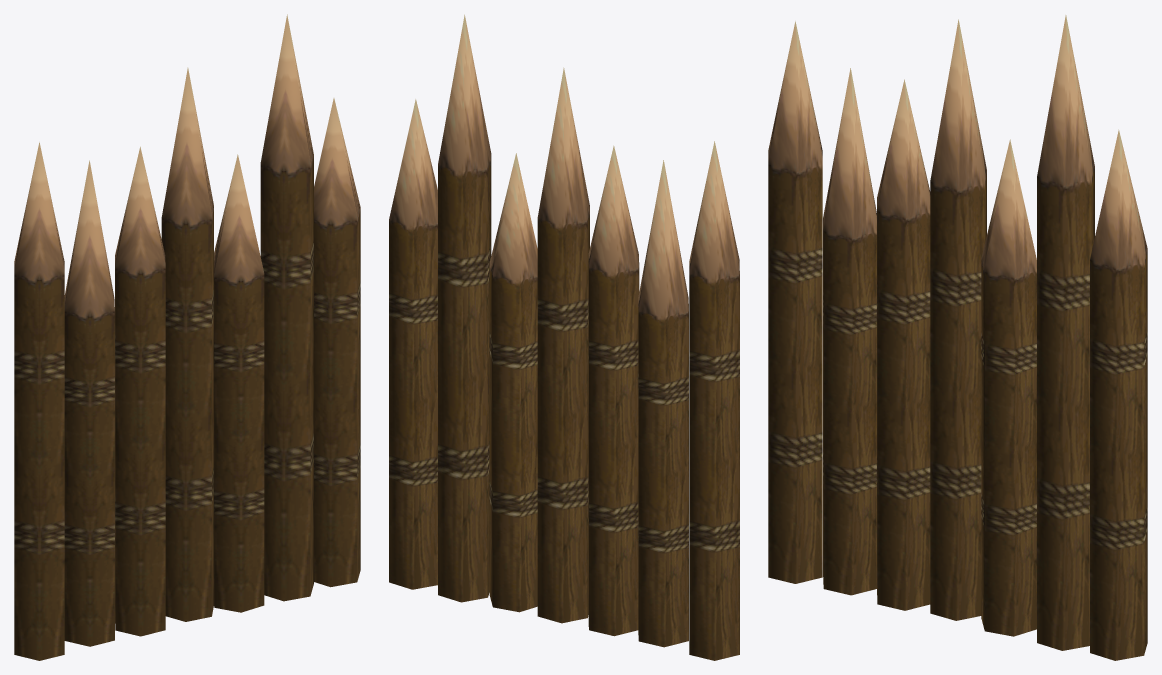
File: Item_3001_wujian002_zhalan.FBX
The picture shows the model from 3 angles, left to right: view 1: azimuth 30°, elevation 25°; view 2: azimuth 150°, elevation 25°; view 3: azimuth 330°, elevation 25°; orthographic projection. The views are drawn at different scales.
Visible parts, largest first — view 1: Item_3001_wujian002_zhalan; view 2: Item_3001_wujian002_zhalan; view 3: Item_3001_wujian002_zhalan.
Part boxes in pixels (x1,y1,x2,y2): Item_3001_wujian002_zhalan: (14,14,360,660); Item_3001_wujian002_zhalan: (389,14,739,660); Item_3001_wujian002_zhalan: (768,15,1147,660).
Bounding box in the file's own units: 290 × 460 × 41.56.
